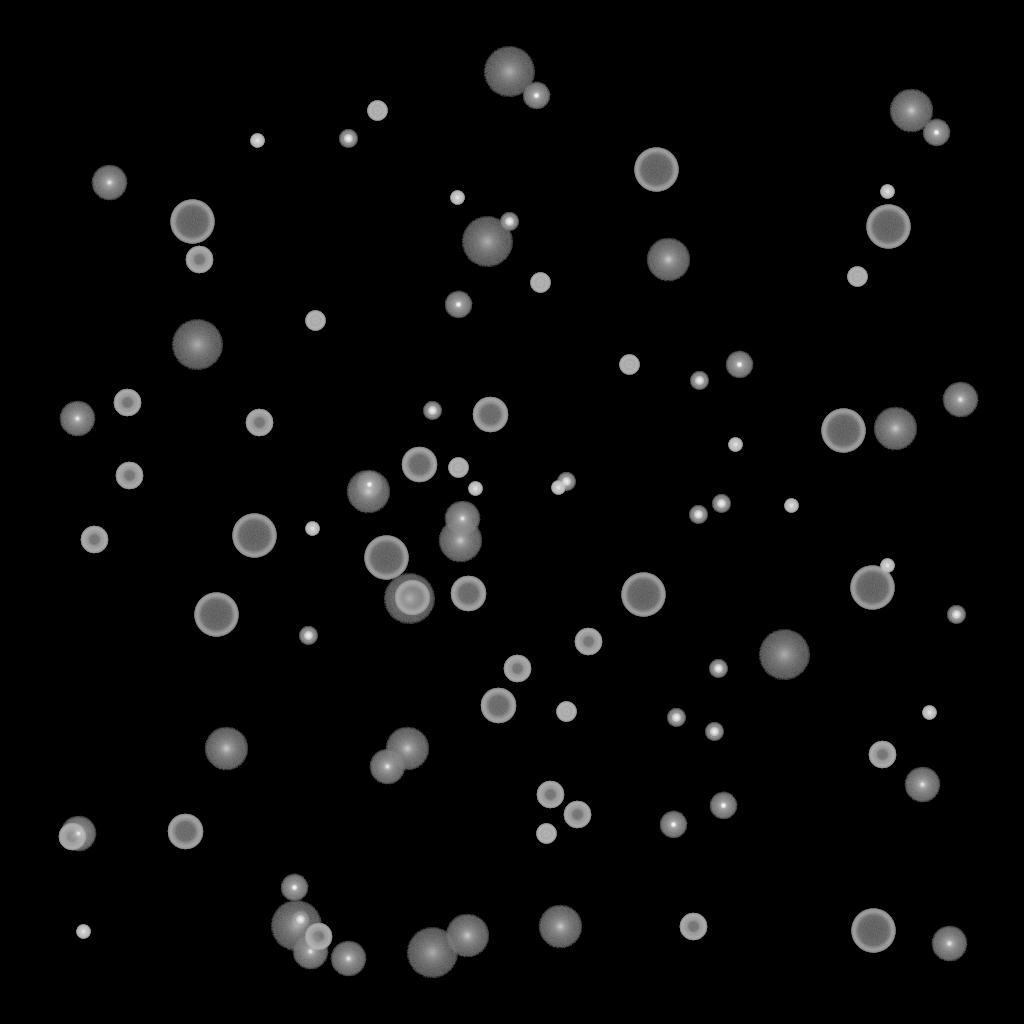depth:-10: (522, 82, 550, 110), (709, 792, 737, 820), (659, 811, 687, 839), (922, 119, 950, 147), (444, 291, 472, 319), (725, 351, 753, 379), (355, 471, 383, 499), (280, 874, 308, 902)
depth:-20: (709, 660, 727, 678), (712, 495, 730, 513), (500, 213, 518, 231), (339, 130, 357, 148), (667, 709, 685, 727), (291, 911, 309, 929), (947, 606, 965, 624), (705, 723, 723, 741), (689, 506, 707, 524), (299, 627, 317, 645), (690, 372, 708, 390), (423, 402, 441, 420), (557, 473, 575, 491)
depth:-30: (922, 706, 936, 720), (450, 191, 464, 205), (728, 438, 742, 452), (551, 481, 565, 495), (880, 559, 894, 573), (468, 482, 482, 496), (76, 925, 90, 939), (305, 522, 319, 536), (250, 134, 264, 148), (880, 185, 894, 199), (784, 499, 798, 513)
depth:-40: (530, 273, 550, 293), (619, 355, 639, 375), (367, 101, 387, 121), (305, 311, 325, 331), (536, 824, 556, 844), (448, 458, 468, 478), (556, 702, 576, 722), (847, 267, 867, 287)
depth:-50: (868, 741, 896, 769), (245, 409, 273, 437), (115, 462, 143, 490), (503, 655, 531, 683), (58, 823, 86, 851), (563, 801, 591, 829), (185, 246, 213, 274), (536, 781, 564, 809), (304, 923, 332, 951), (113, 389, 141, 417), (679, 913, 707, 941), (574, 628, 602, 656), (80, 526, 108, 554)
depth:-60: (472, 397, 508, 433), (394, 580, 430, 616), (167, 814, 203, 850), (450, 576, 486, 612), (401, 447, 437, 483), (480, 688, 516, 724)
depth:-70: (194, 593, 238, 637), (621, 573, 665, 617), (634, 148, 678, 192), (851, 909, 895, 953), (170, 200, 214, 244), (866, 205, 910, 249), (821, 409, 865, 453), (364, 536, 408, 580), (850, 566, 894, 610), (232, 514, 276, 558)
depth:0: (931, 926, 967, 962), (444, 501, 480, 537), (369, 749, 405, 785), (904, 767, 940, 803), (60, 816, 96, 852), (330, 941, 366, 977), (91, 165, 127, 201), (942, 382, 978, 418), (292, 934, 328, 970), (59, 401, 95, 437)
depth:10: (204, 727, 248, 771), (438, 519, 482, 563), (346, 470, 390, 514), (445, 914, 489, 958), (873, 407, 917, 451), (385, 727, 429, 771), (646, 238, 690, 282), (889, 89, 933, 133), (538, 905, 582, 949)
depth:20: (406, 928, 458, 978), (270, 901, 322, 951), (758, 630, 810, 680), (171, 320, 223, 370), (383, 574, 435, 624), (461, 217, 513, 267), (483, 47, 535, 97)
